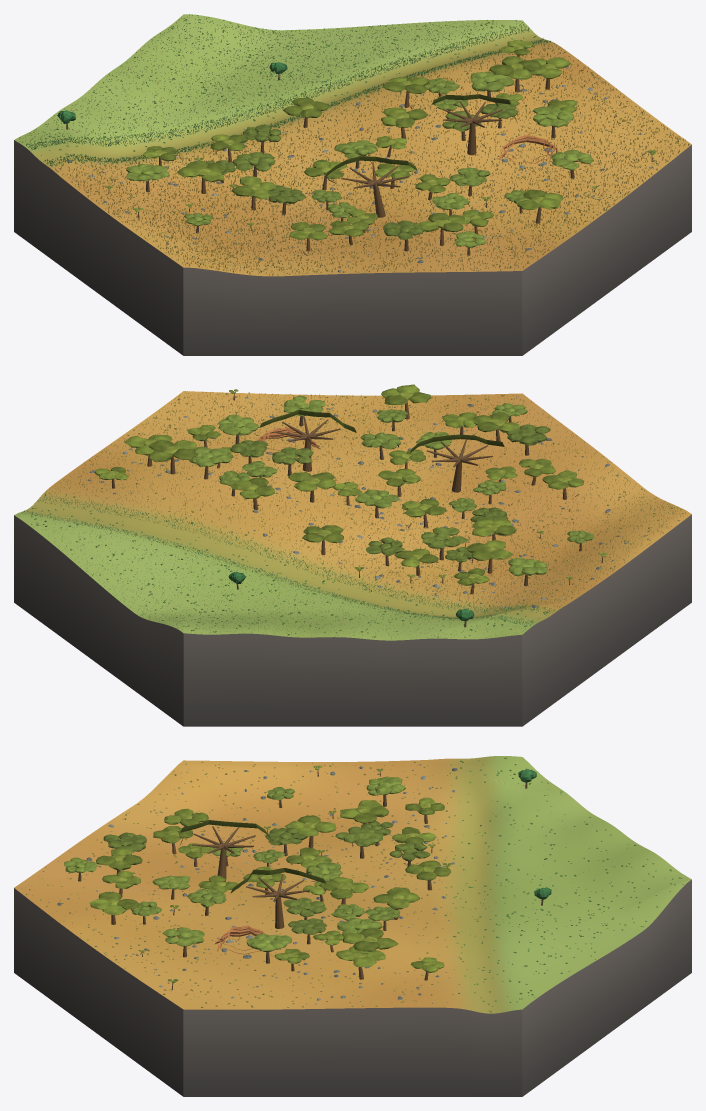
3 views of the same model, one above another, from view 1: azimuth 30°, elevation 25°; view 2: azimuth 150°, elevation 25°; view 3: azimuth 270°, elevation 25° (orthographic).
Visible parts, largest first — view 1: terrain, hex_side_cut, wildflowers, broadleaf_canopy, shrubs, trunks, boulders, branches, rock_escarpments; view 2: terrain, hex_side_cut, broadleaf_canopy, wildflowers, shrubs, trunks, boulders, branches; view 3: terrain, hex_side_cut, broadleaf_canopy, shrubs, trunks, boulders, branches.
Boxes of the visible parts, <box> form: terrain: <box>14,14,691,276</box>; hex_side_cut: <box>14,140,691,355</box>; wildflowers: <box>19,14,689,275</box>; broadleaf_canopy: <box>57,40,655,247</box>; shrubs: <box>26,15,678,275</box>; trunks: <box>66,55,652,255</box>; boulders: <box>67,52,652,272</box>; branches: <box>252,101,579,255</box>; rock_escarpments: <box>498,135,557,163</box>; terrain: <box>14,391,691,640</box>; hex_side_cut: <box>14,514,691,726</box>; broadleaf_canopy: <box>94,384,607,620</box>; wildflowers: <box>18,391,685,638</box>; shrubs: <box>31,393,683,637</box>; trunks: <box>112,394,602,627</box>; boulders: <box>66,396,654,607</box>; branches: <box>252,410,579,550</box>; terrain: <box>14,756,691,1013</box>; hex_side_cut: <box>14,879,691,1096</box>; broadleaf_canopy: <box>64,765,551,982</box>; shrubs: <box>25,757,683,1012</box>; trunks: <box>78,770,543,989</box>; boulders: <box>21,764,457,1004</box>; branches: <box>75,826,412,936</box>.
Bounding box in the file's own units: 4330 × 1048 × 5000.
